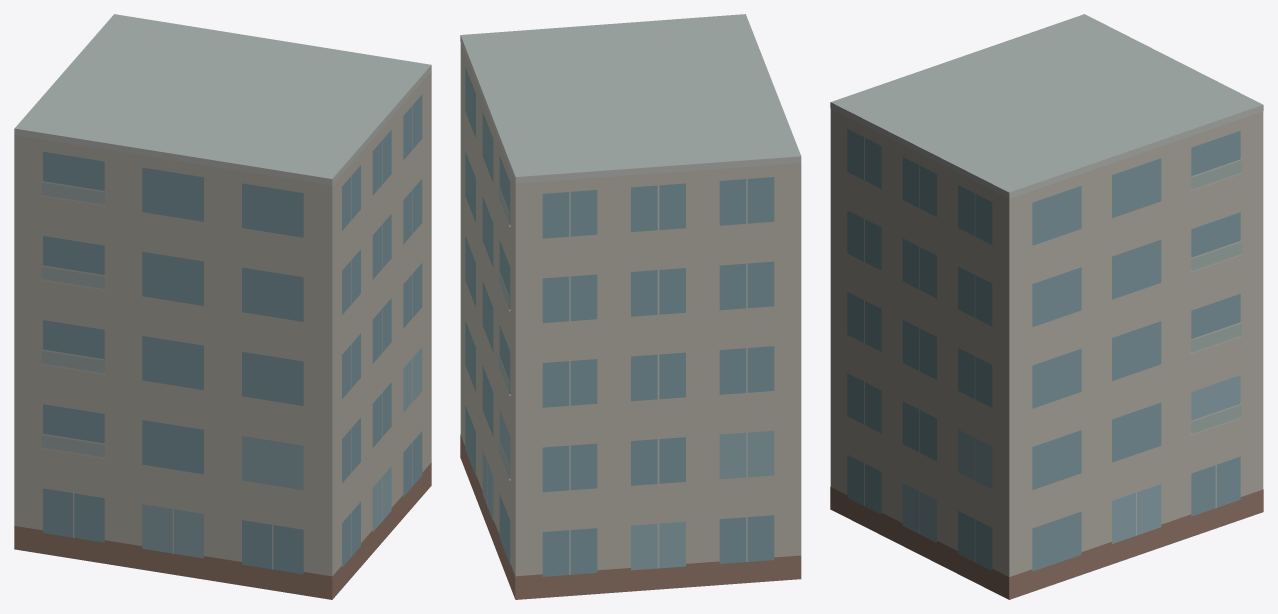
The model's file is survey-upis-33022950.glb.
The picture shows the model from 3 angles, left to right: view 1: azimuth 30°, elevation 25°; view 2: azimuth 150°, elevation 25°; view 3: azimuth 270°, elevation 25°; orthographic projection. The views are drawn at different scales.
Visible parts, largest first — view 1: survey-upis-33022950.tmp; view 2: survey-upis-33022950.tmp; view 3: survey-upis-33022950.tmp.
Boxes of the visible parts, x1,y1,x2,y2 form: survey-upis-33022950.tmp: (14,14,431,599); survey-upis-33022950.tmp: (460,14,801,599); survey-upis-33022950.tmp: (830,14,1263,599).
Size of the model in its own units: 14.87 by 15.8 by 15.23.
